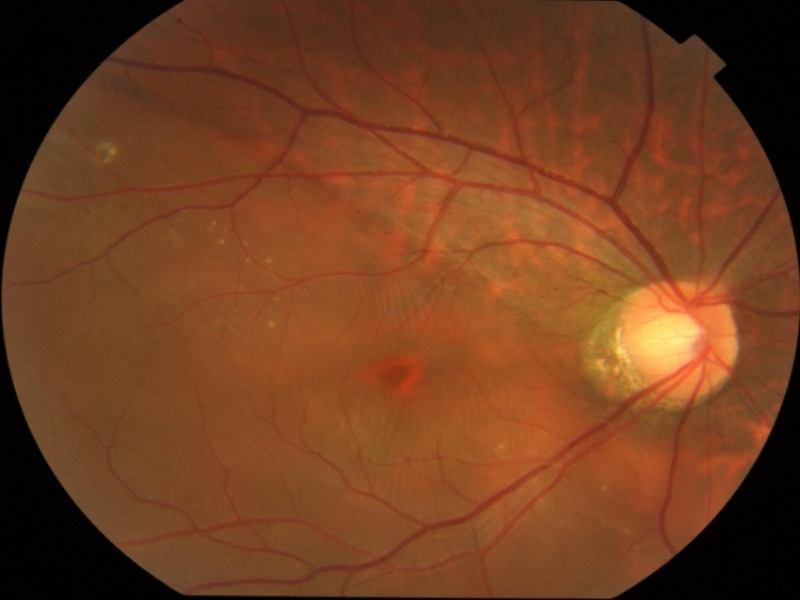Optic Cup: (634, 315, 697, 360)
Optic Disc: (613, 279, 740, 407)
